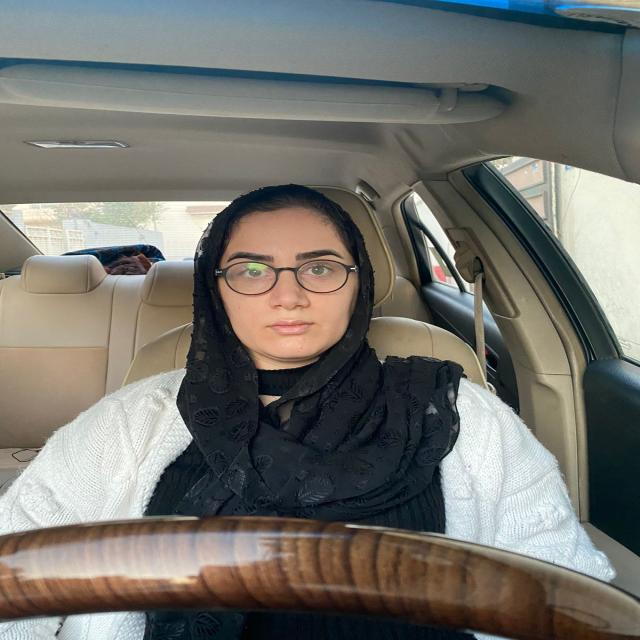person: (178, 183, 385, 366)
